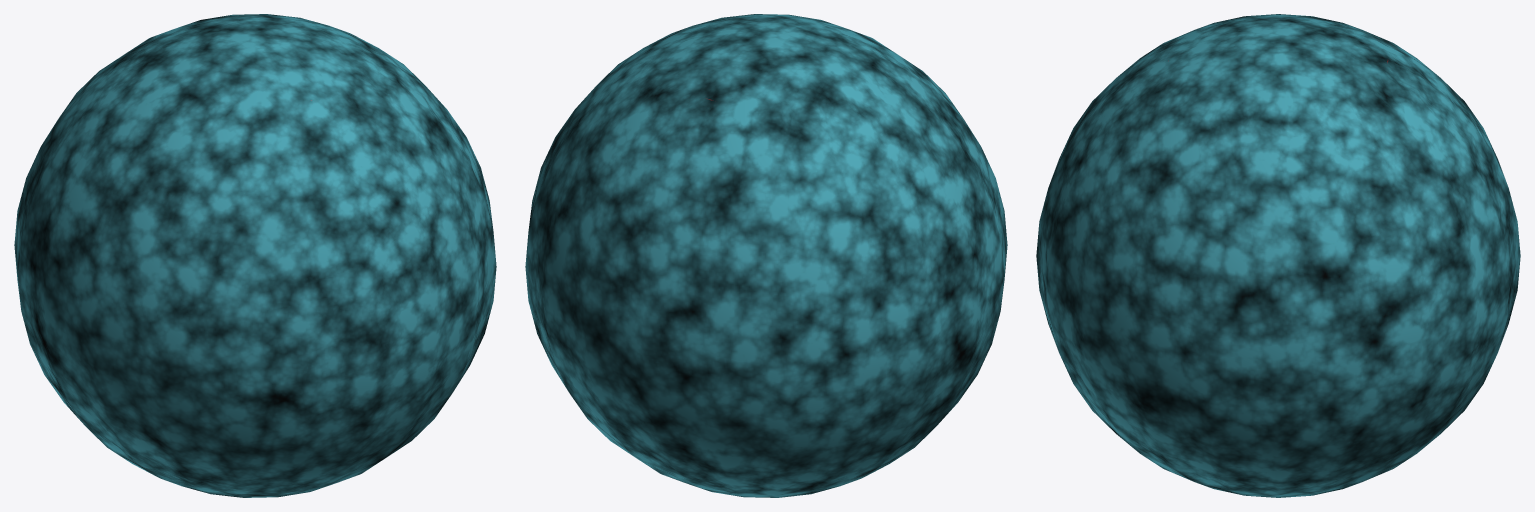
File: Human ovum.fbx
The picture shows the model from 3 angles, left to right: view 1: azimuth 30°, elevation 25°; view 2: azimuth 150°, elevation 25°; view 3: azimuth 270°, elevation 25°; orthographic projection.
Parts seen in each view (by area): view 1: REPRODUCTIONEPRODUCTIONINANIMALS:pSphere1; view 2: REPRODUCTIONEPRODUCTIONINANIMALS:pSphere1; view 3: REPRODUCTIONEPRODUCTIONINANIMALS:pSphere1.
Boxes of the visible parts, x1,y1,x2,y2 form: REPRODUCTIONEPRODUCTIONINANIMALS:pSphere1: (14,14,496,497); REPRODUCTIONEPRODUCTIONINANIMALS:pSphere1: (525,14,1007,497); REPRODUCTIONEPRODUCTIONINANIMALS:pSphere1: (1036,14,1520,497).
Size of the model in its own units: 125 by 125 by 125.
1 material, 1 textured.
